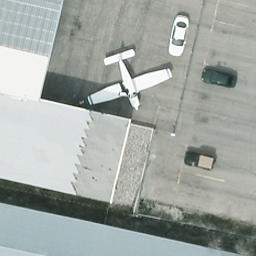car: (199, 70, 242, 92), (170, 13, 189, 59), (186, 151, 218, 172)
plane: (73, 41, 181, 124)
